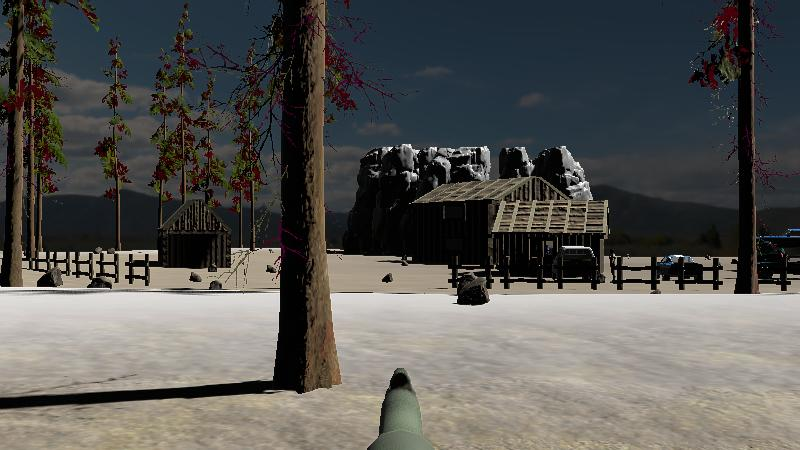House: (489, 196, 612, 280), (157, 196, 233, 268)
car: (550, 243, 604, 284), (647, 252, 706, 284), (753, 248, 798, 279), (755, 228, 800, 252)
